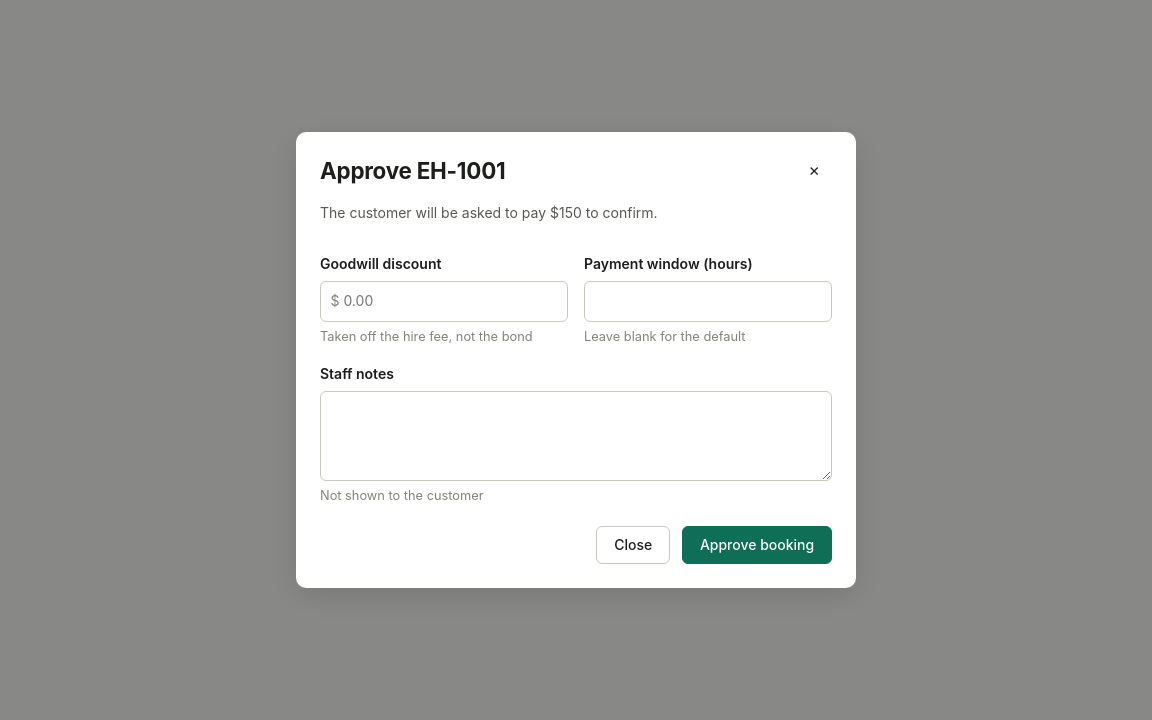
Scenario: Booking approval › keeps the dialog open and shows the error when the API refuses the approval
Expected: the dialog "Approve EH-1001" is shown, [296,132,856,588]
Click the button "Approve booking": (757, 545) [682,526,832,564]
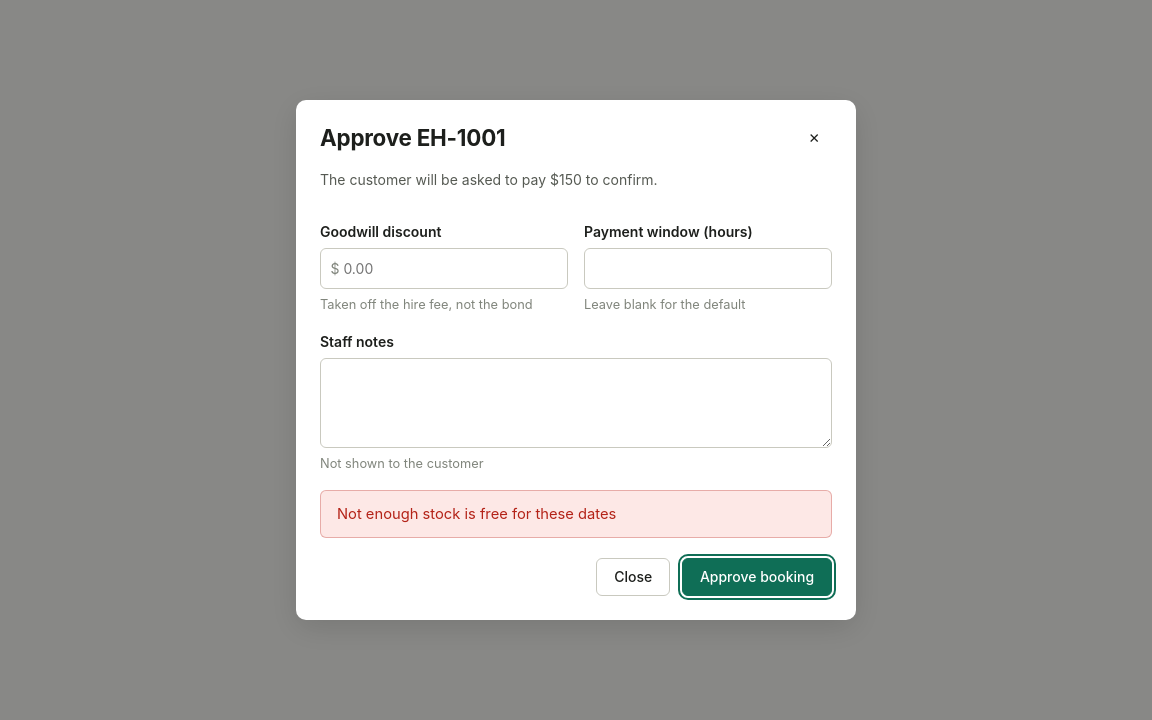
Expected: the message reads "Not enough stock is free for these dates", [337,504,616,522]
